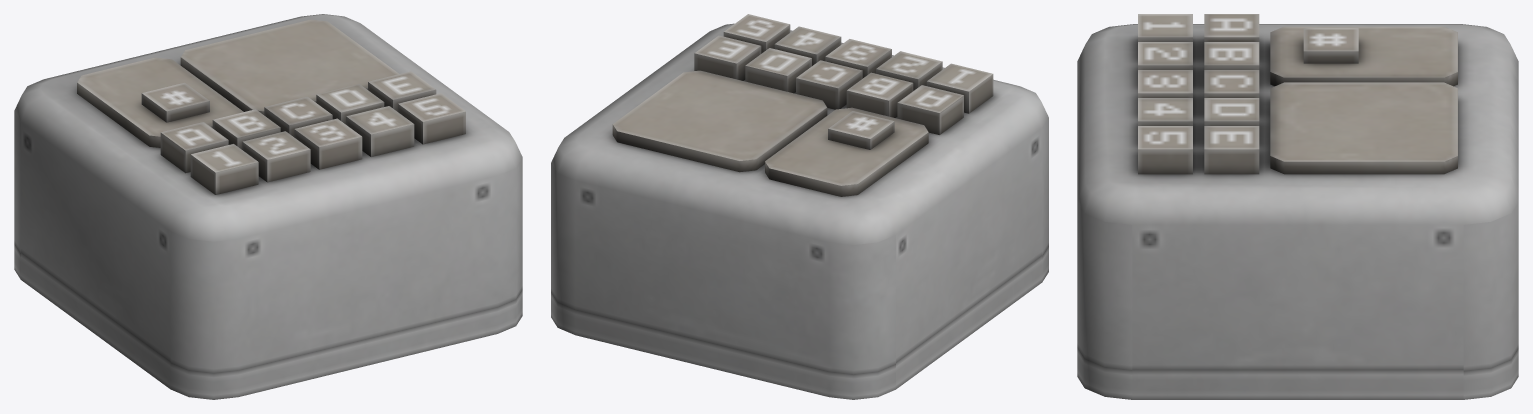
The model's file is computer1.obj.
3 renders of one model, left to right at view 1: azimuth 30°, elevation 25°; view 2: azimuth 150°, elevation 25°; view 3: azimuth 270°, elevation 25°, orthographic. The views are drawn at different scales.
Visible parts, largest first — view 1: 1; view 2: 1; view 3: 1.
Boxes of the visible parts, bbox=[...] form: 1: bbox=[14, 14, 522, 399]; 1: bbox=[551, 14, 1048, 399]; 1: bbox=[1077, 14, 1518, 399].
Size of the model in its own units: 0.2 by 0.1125 by 0.2.
1 material, 1 textured.
